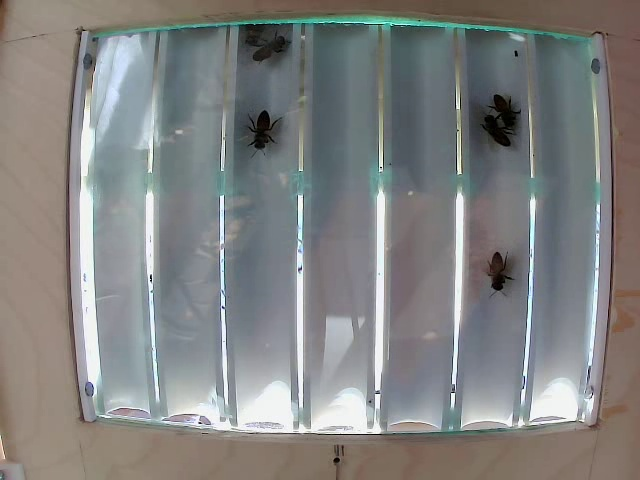bee: (231, 109, 287, 149), (475, 250, 524, 292), (482, 118, 513, 162), (260, 39, 292, 71), (485, 88, 513, 124), (241, 26, 269, 54)
